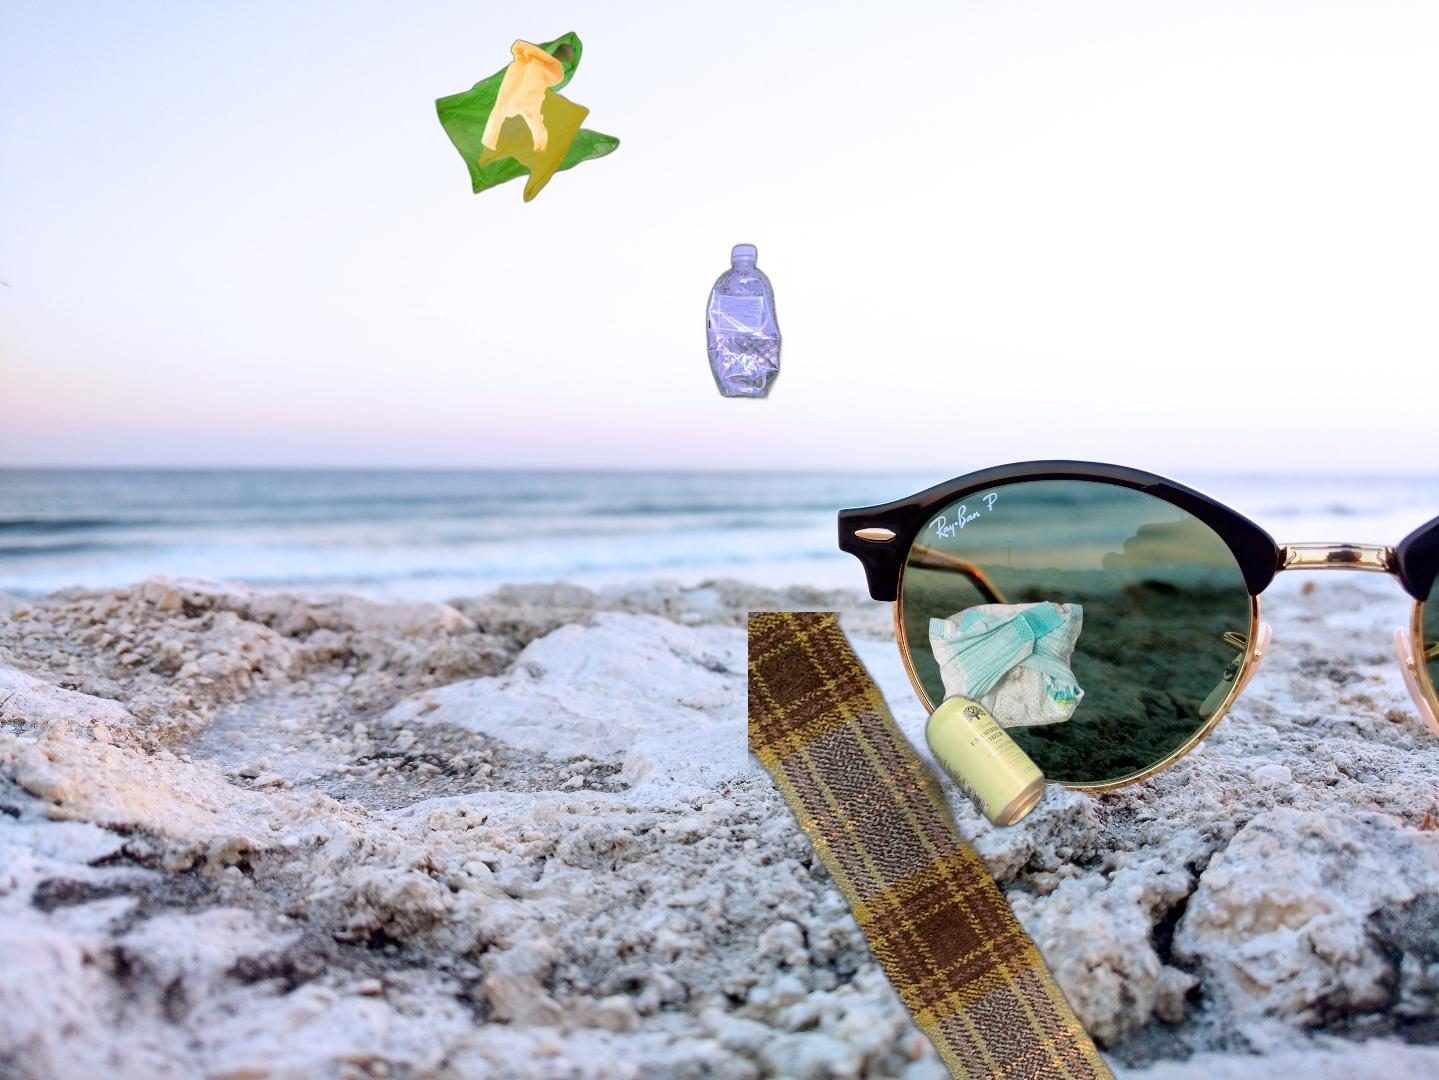metal-cans: (748, 611, 1260, 1080)
plastic-bag: (432, 29, 623, 205)
plastic-bottles: (496, 239, 786, 726)
trash: (926, 599, 1087, 735)
